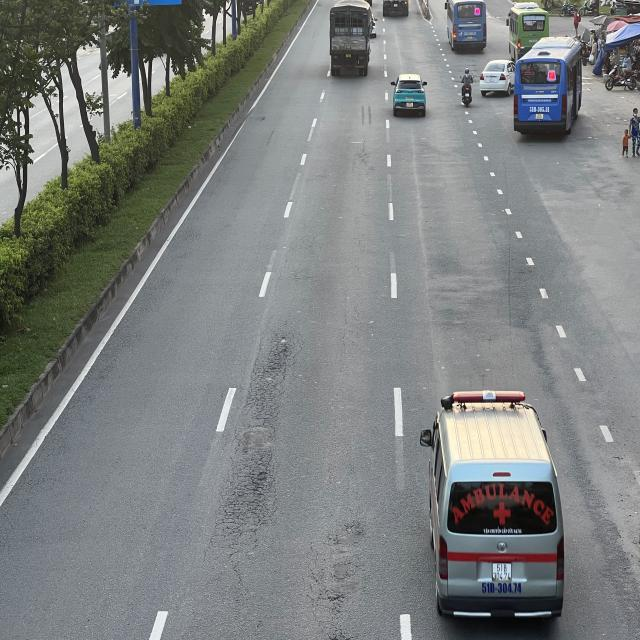car: (392, 74, 429, 117), (480, 60, 515, 95)
coach: (516, 33, 585, 133), (506, 0, 548, 58), (445, 0, 488, 50)
truck: (329, 0, 374, 77)
van: (416, 392, 566, 621)
